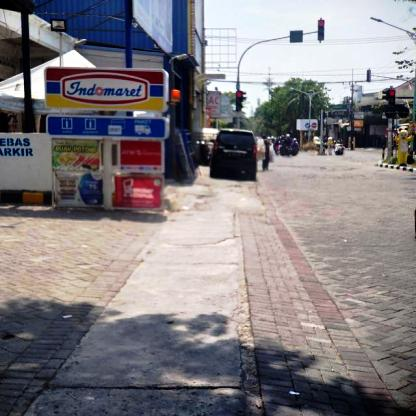Traffic Light -Red-: (235, 90, 244, 113), (390, 89, 396, 111), (318, 21, 324, 41)
